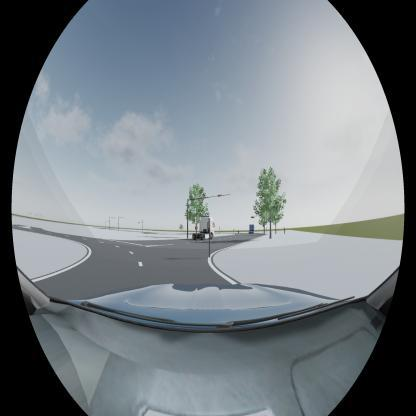Green Light: (250, 216, 256, 219)
Red Light: (218, 194, 222, 197), (200, 197, 204, 199)
